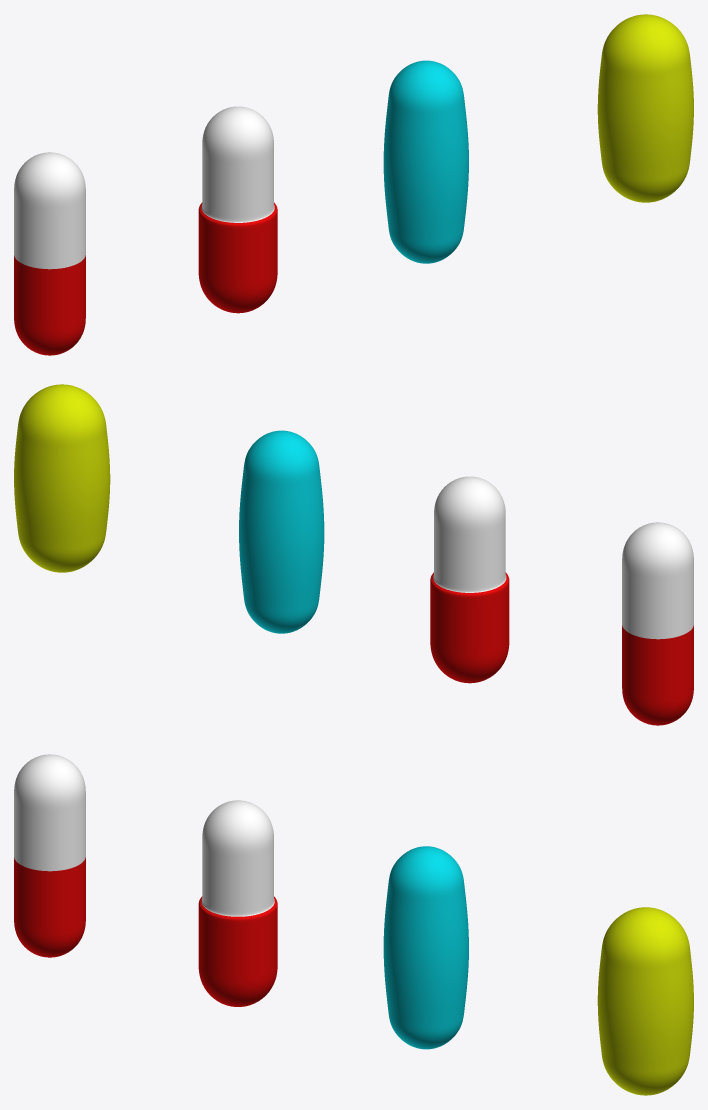
The model's file is RedCapsule.fbx.
3 renders of one model, top to bottom at view 1: azimuth 30°, elevation 25°; view 2: azimuth 150°, elevation 25°; view 3: azimuth 330°, elevation 25°, orthographic.
Parts seen in each view (by area): view 1: 실린더.003, 실린더.002, 실린더.001, 실린더; view 2: 실린더.003, 실린더.002, 실린더.001, 실린더; view 3: 실린더.003, 실린더.002, 실린더.001, 실린더.
Part boxes in pixels (x1=…): 실린더.003: x1=597, y1=14, x2=693, y2=202; 실린더.002: x1=383, y1=60, x2=468, y2=263; 실린더.001: x1=198, y1=106, x2=277, y2=313; 실린더: x1=14, y1=152, x2=85, y2=355; 실린더.003: x1=14, y1=384, x2=110, y2=572; 실린더.002: x1=239, y1=430, x2=324, y2=633; 실린더.001: x1=430, y1=476, x2=509, y2=683; 실린더: x1=622, y1=522, x2=693, y2=725; 실린더.003: x1=597, y1=907, x2=693, y2=1095; 실린더.002: x1=383, y1=846, x2=468, y2=1049; 실린더.001: x1=198, y1=800, x2=277, y2=1006; 실린더: x1=14, y1=754, x2=85, y2=957.
Size of the model in its own units: 2132 by 609 by 266.
